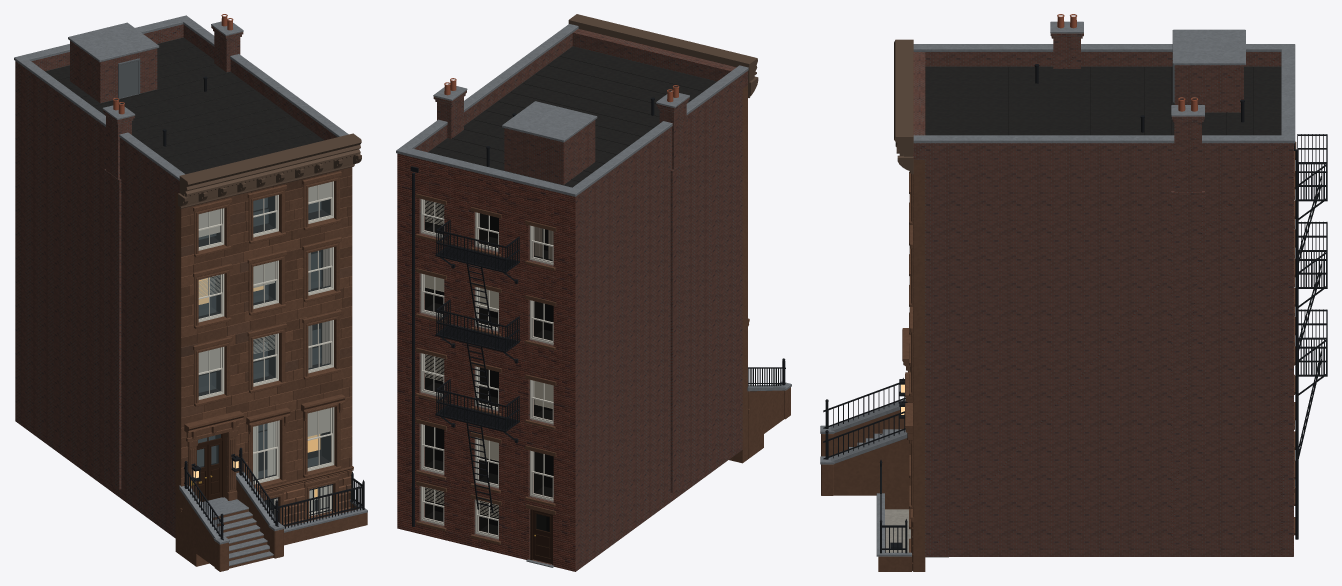
File: realistic-brownstone-01.glb
3 renders of one model, left to right at view 1: azimuth 30°, elevation 25°; view 2: azimuth 150°, elevation 25°; view 3: azimuth 270°, elevation 25°, orthographic. The views are drawn at different scales.
Parts seen in each view (by area): view 1: bs_brickTex, bs_trim, bs_stone, bs_roof, bs_blue, bs_glass, bs_cornice, bs_rooms, bs_sash, bs_iron, bs_blind, bs_door (+4 smaller); view 2: bs_brickTex, bs_brickGeo, bs_roof, bs_iron, bs_blue, bs_trim, bs_rooms, bs_sash, bs_cornice, bs_blind, bs_door; view 3: bs_brickTex, bs_roof, bs_trim, bs_blue, bs_iron, bs_cornice, bs_conc.
Part boxes in pixels (bbox=[...]): bs_brickTex: bbox=[15, 24, 337, 538]; bs_trim: bbox=[175, 171, 367, 571]; bs_stone: bbox=[181, 167, 352, 526]; bs_roof: bbox=[45, 37, 323, 174]; bs_blue: bbox=[14, 15, 367, 566]; bs_glass: bbox=[197, 182, 330, 512]; bs_cornice: bbox=[178, 133, 361, 208]; bs_rooms: bbox=[197, 195, 330, 512]; bs_sash: bbox=[198, 181, 334, 516]; bs_iron: bbox=[162, 76, 364, 540]; bs_blind: bbox=[198, 182, 330, 436]; bs_door: bbox=[196, 433, 224, 501]; bs_brickTex: bbox=[397, 29, 747, 571]; bs_brickGeo: bbox=[397, 153, 575, 571]; bs_roof: bbox=[428, 46, 716, 187]; bs_iron: bbox=[410, 97, 785, 526]; bs_blue: bbox=[396, 24, 791, 567]; bs_trim: bbox=[416, 85, 790, 544]; bs_rooms: bbox=[425, 200, 553, 534]; bs_sash: bbox=[420, 199, 553, 539]; bs_cornice: bbox=[568, 14, 758, 97]; bs_blind: bbox=[425, 200, 553, 517]; bs_door: bbox=[530, 509, 552, 565]; bs_brickTex: bbox=[913, 33, 1293, 556]; bs_roof: bbox=[925, 66, 1281, 135]; bs_trim: bbox=[821, 141, 1296, 571]; bs_blue: bbox=[820, 21, 1295, 556]; bs_iron: bbox=[823, 64, 1327, 553]; bs_cornice: bbox=[894, 39, 913, 174]; bs_conc: bbox=[885, 509, 910, 552].
Bounding box in the file's own units: 7.86 × 17.16 × 16.77.
21 materials, 7 textured.
